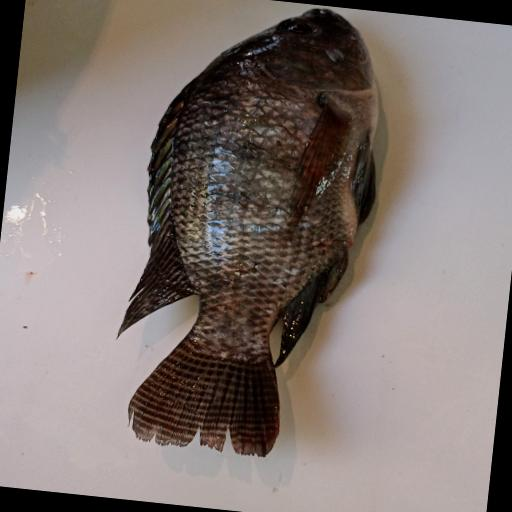Tilapia: (105, 0, 394, 467)
